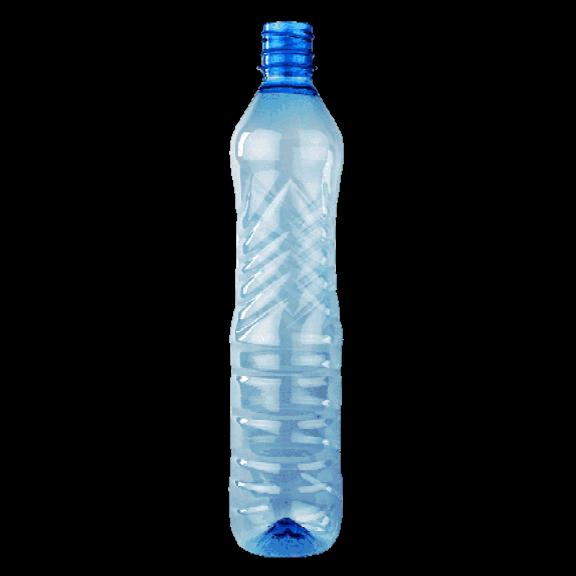Plastik: (231, 14, 347, 561)
